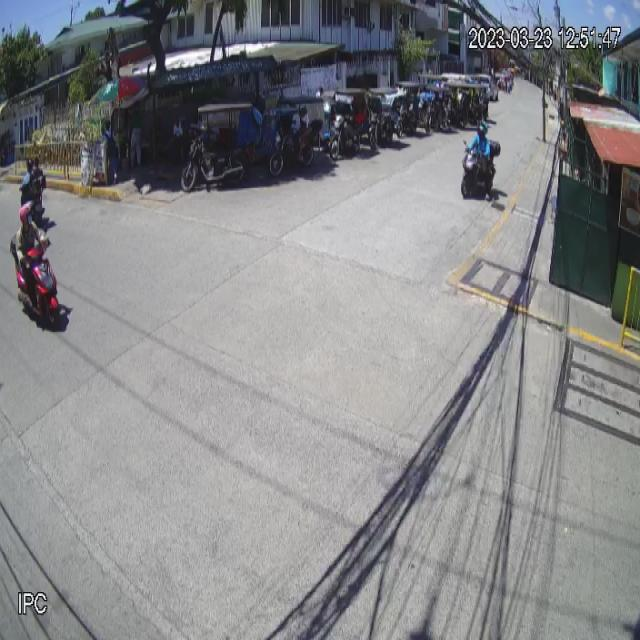Motorcycle: (9, 230, 60, 329)
